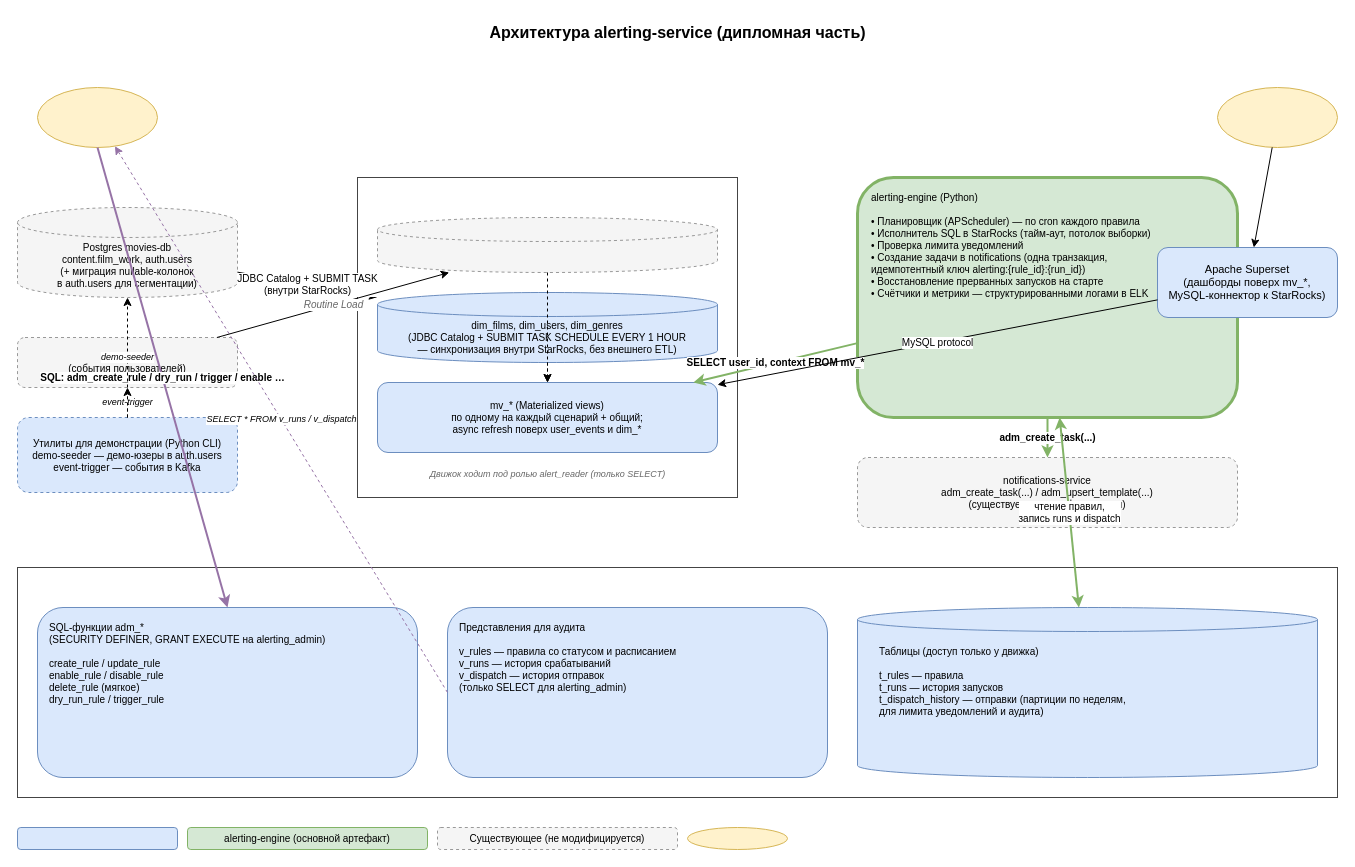
The diagram is 1355 pixels wide and 867 high, and some of its shapes have lost their labels. The shapes that lost their labels are listed below. From the top down, each one's box as (x1, y1, x2, y2) in pixels, then its label:
(36, 86, 158, 148): Аналитик (DBeaver)
(1216, 86, 1338, 148): BI-аналитик (браузер)
(376, 216, 718, 272): user_events (наполняется Routine Load из Kafka)
(356, 176, 738, 498): StarRocks (ugc_analytics)
(16, 566, 1338, 798): Postgres movies-db — schema alerting (новая)
(16, 826, 178, 850): Новое (дипломное)
(686, 826, 788, 850): Актор
